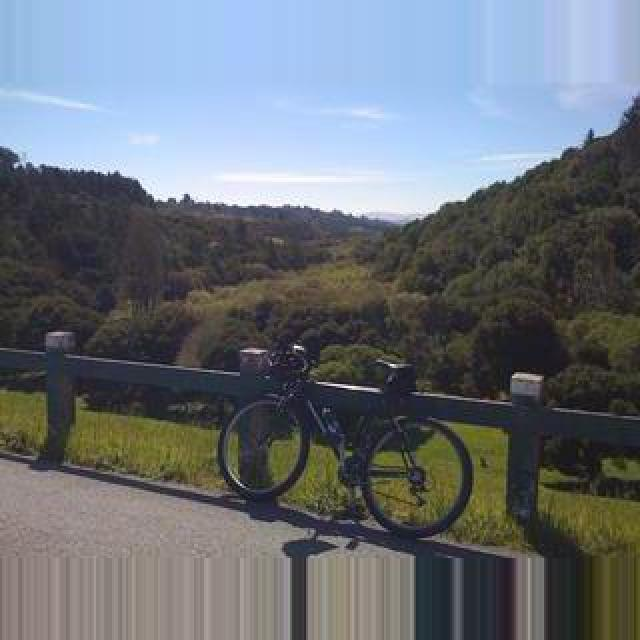Person: (217, 338, 473, 536)
